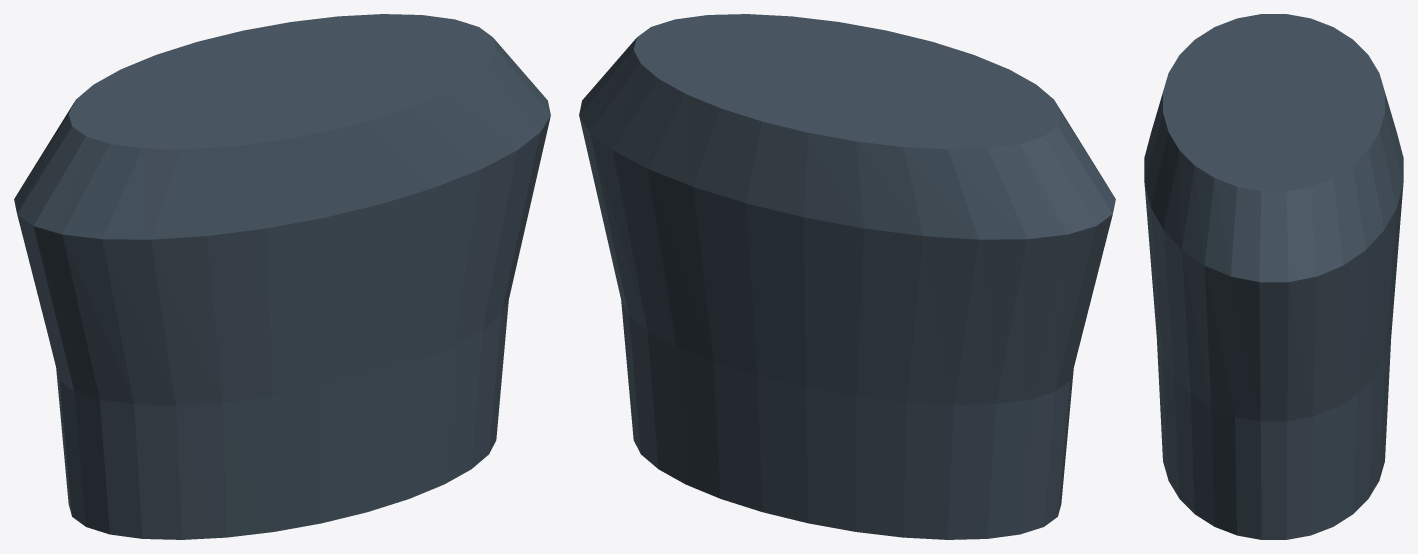
The model's file is Jacket.obj.
The picture shows the model from 3 angles, left to right: view 1: azimuth 30°, elevation 25°; view 2: azimuth 150°, elevation 25°; view 3: azimuth 270°, elevation 25°; orthographic projection. The views are drawn at different scales.
Visible parts, largest first — view 1: Jacket; view 2: Jacket; view 3: Jacket.
Boxes of the visible parts, left/top/right/bottom form: Jacket: left=14, top=14, right=550, bottom=539; Jacket: left=579, top=14, right=1115, bottom=539; Jacket: left=1144, top=14, right=1403, bottom=539.
Bounding box in the file's own units: 0.8546 × 0.62 × 0.4174.
